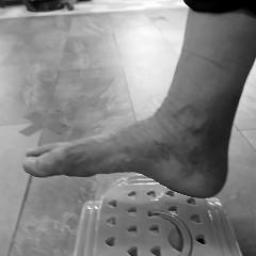Medial View -Right Foot-: (12, 92, 242, 207)
